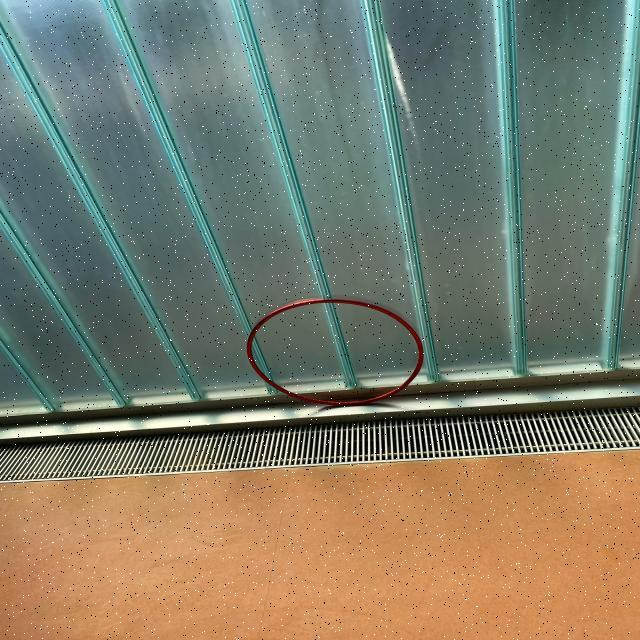Circle: (242, 296, 428, 406)
